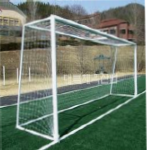goals: (15, 12, 141, 141)
